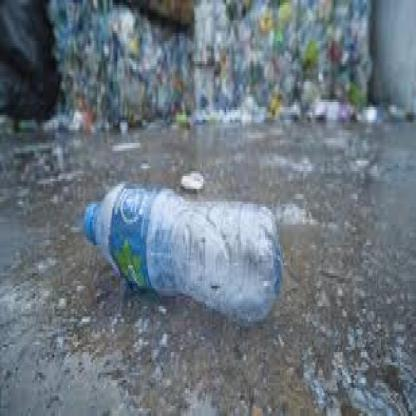Plastic Bottle: (84, 184, 281, 323)
